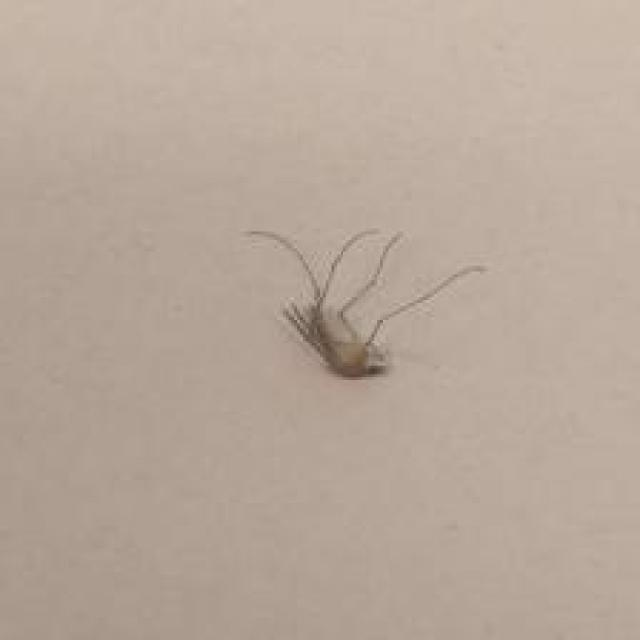Culex: (244, 224, 487, 379)
